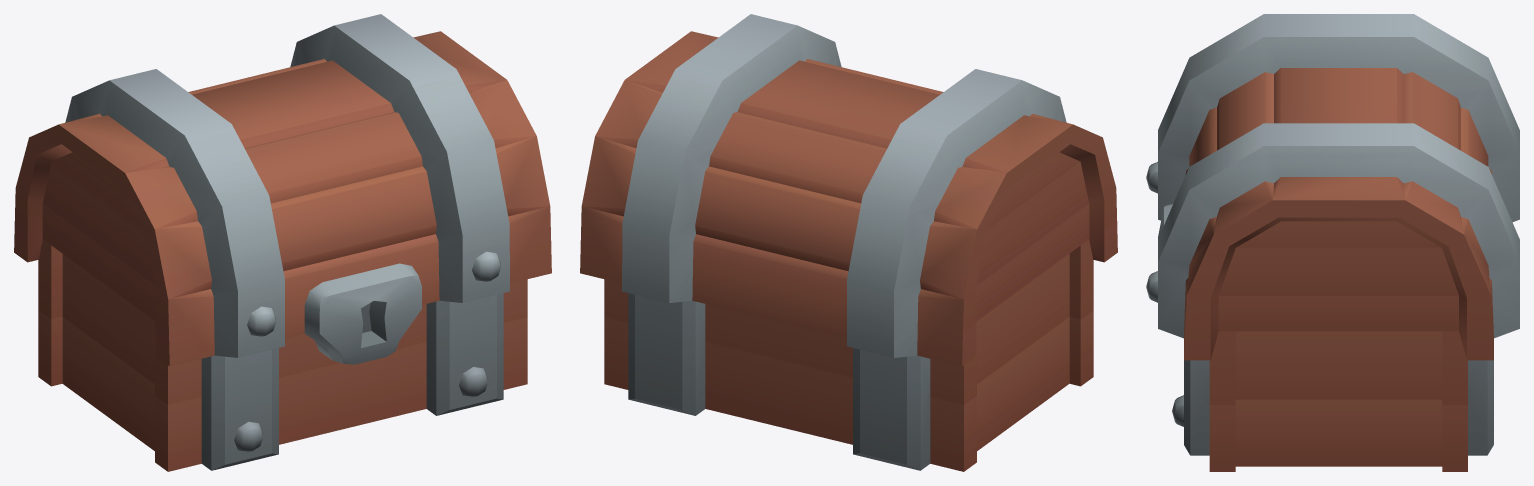
File: chest_gold.glb
3 views of the same model, side by side, from view 1: azimuth 30°, elevation 25°; view 2: azimuth 150°, elevation 25°; view 3: azimuth 270°, elevation 25° (orthographic).
Parts seen in each view (by area): view 1: chest_gold; view 2: chest_gold; view 3: chest_gold.
Part boxes in pixels (x1,y1,x2,y2): chest_gold: (14,14,551,471); chest_gold: (580,14,1117,471); chest_gold: (1146,14,1519,471).
Bounding box in the file's own units: 1.7 × 1.3 × 1.45.
1 material, 1 textured.
